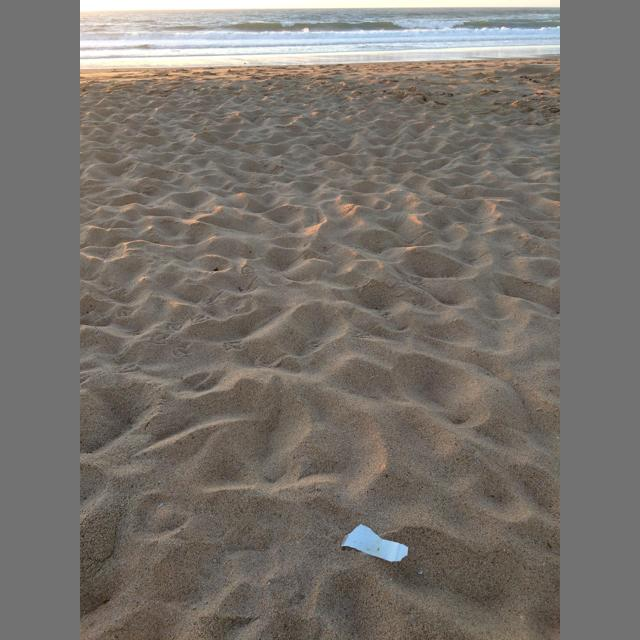litter: (341, 524, 408, 562)
